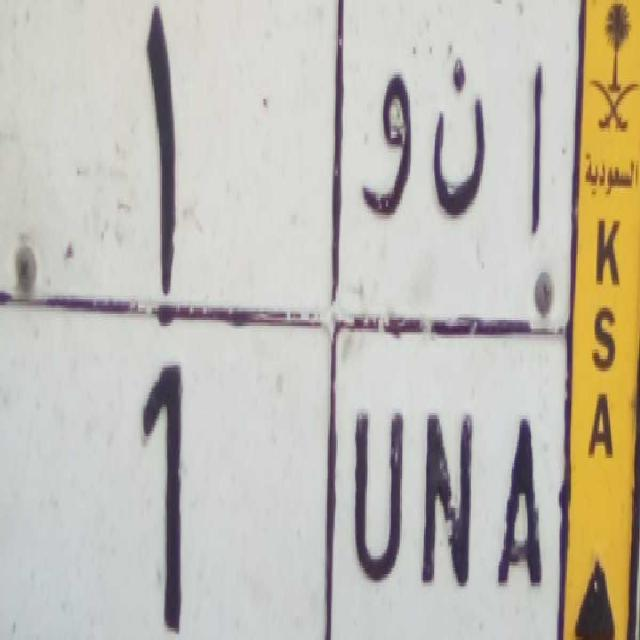license_plate: (0, 299, 563, 640)
